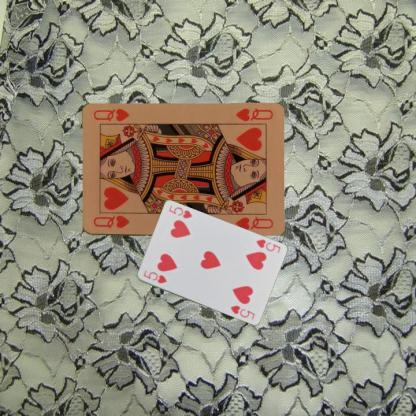5h: (140, 267, 168, 285), (253, 237, 281, 254)
Qh: (90, 212, 131, 230), (232, 106, 274, 122)
